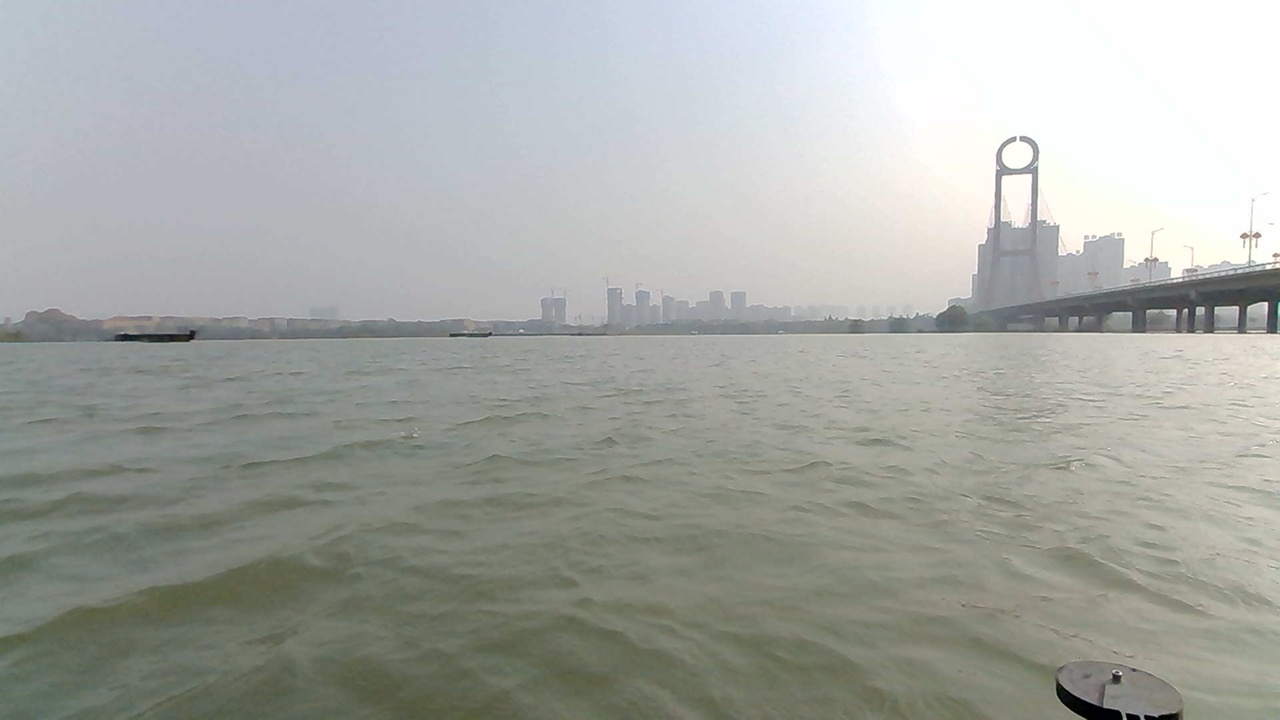bottle: (339, 420, 416, 463)
